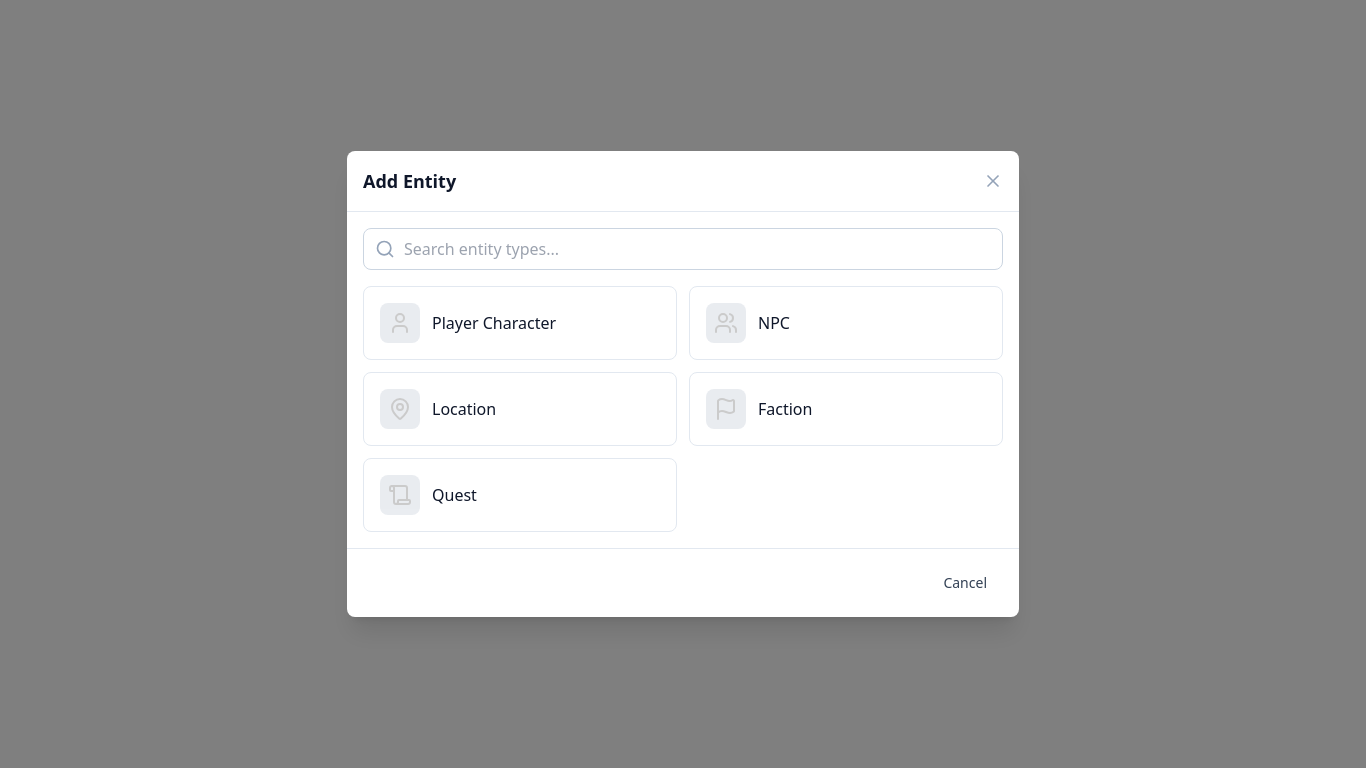
Test: QuickAddModal Component - Search/Filter Functionality › should filter entity types based on search query
This screenshot has width=1366, height=768.
Type "character" into the field at [683, 249], box [363,228,1003,270]
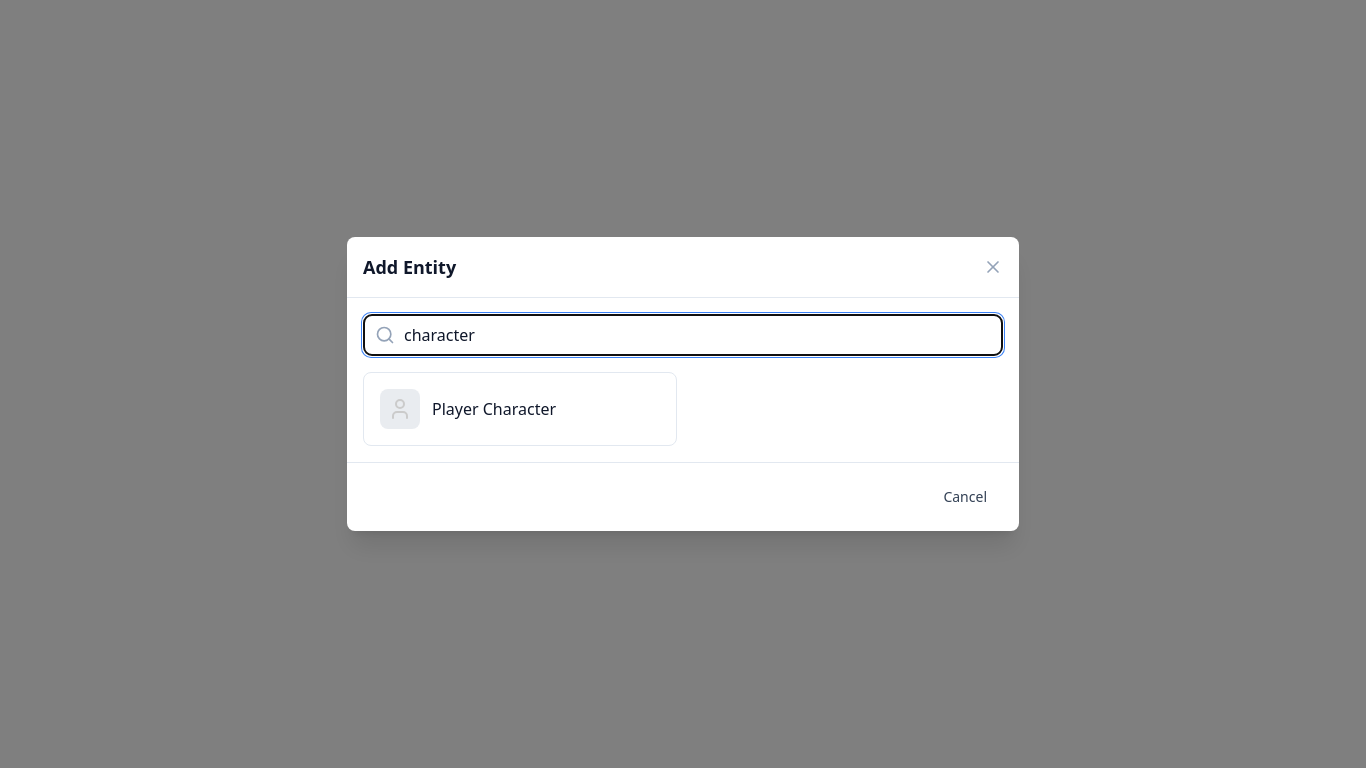
Check: the button "Location" is gone
Check: the button "Faction" is gone
Check: the button "Quest" is gone
